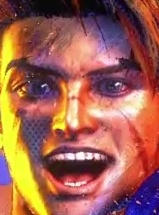kevin: (8, 7, 158, 214)
